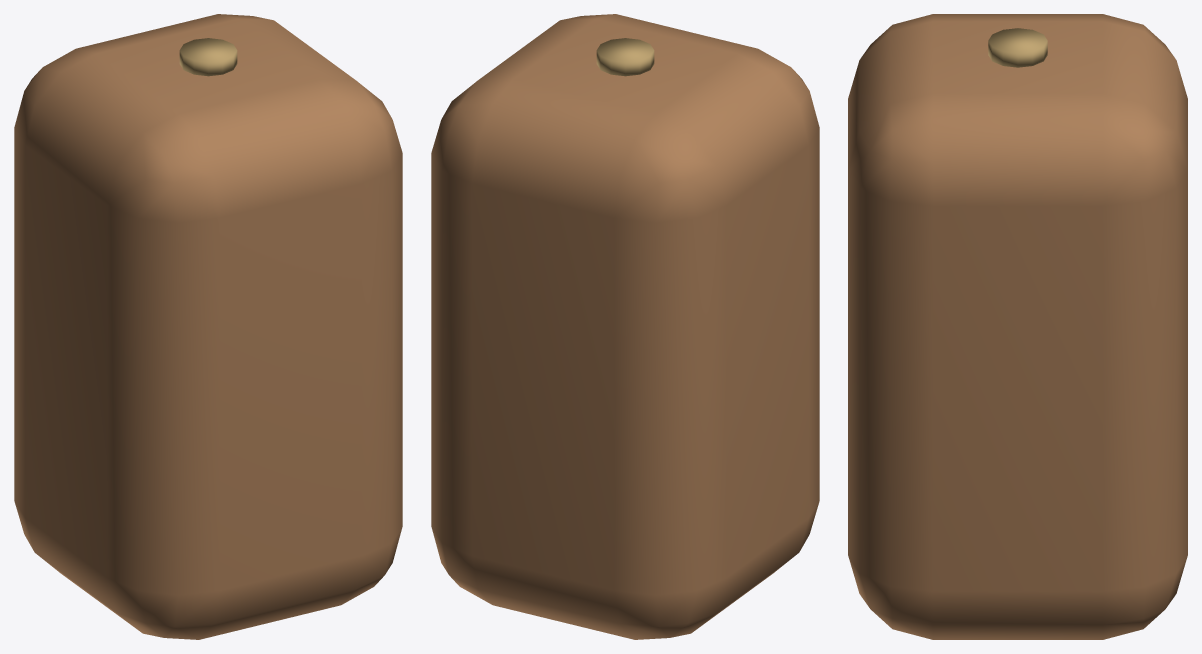
File: PP_Kit_RailCorner.fbx
The picture shows the model from 3 angles, left to right: view 1: azimuth 30°, elevation 25°; view 2: azimuth 150°, elevation 25°; view 3: azimuth 270°, elevation 25°; orthographic projection. The views are drawn at different scales.
Parts seen in each view (by area): view 1: KIT_RailCorner; view 2: KIT_RailCorner; view 3: KIT_RailCorner.
Part boxes in pixels (left/top/right/bottom): KIT_RailCorner: left=14, top=14, right=402, bottom=639; KIT_RailCorner: left=431, top=14, right=819, bottom=639; KIT_RailCorner: left=848, top=14, right=1187, bottom=639.
Size of the model in its own units: 32 by 57.75 by 32.
